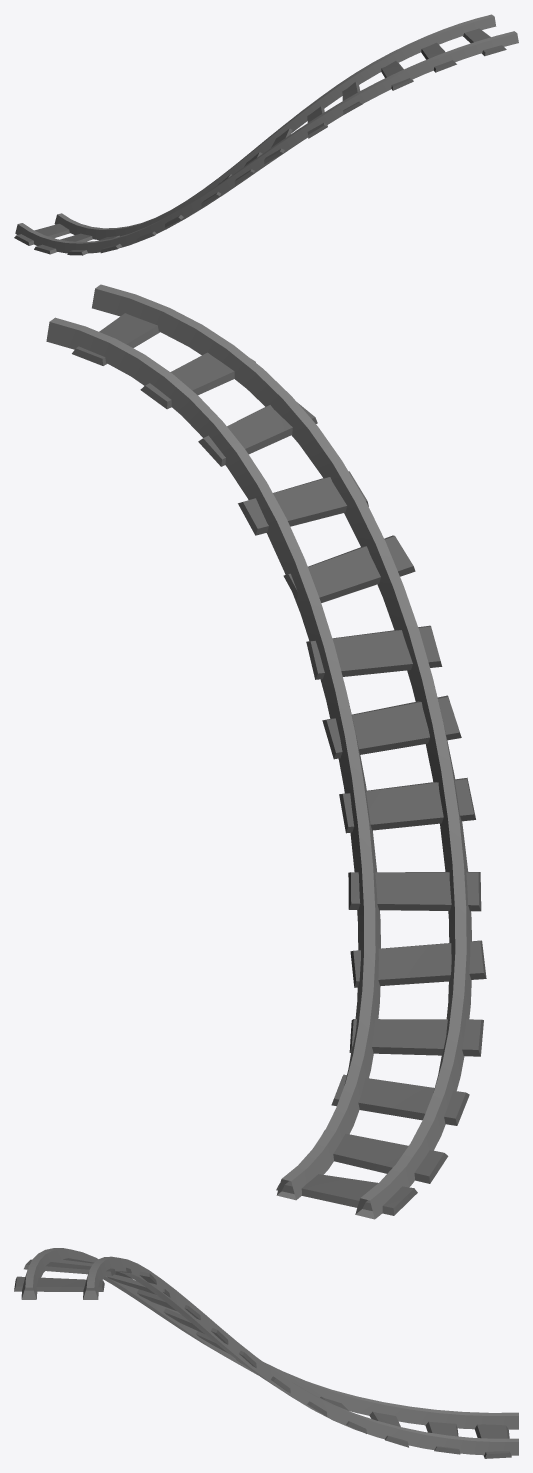
File: Ray_Curve_03.fbx
3 renders of one model, top to bottom at view 1: azimuth 30°, elevation 25°; view 2: azimuth 150°, elevation 25°; view 3: azimuth 270°, elevation 25°, orthographic. The views are drawn at different scales.
Visible parts, largest first — view 1: Ray_Curve_03; view 2: Ray_Curve_03; view 3: Ray_Curve_03.
Boxes of the visible parts, x1=… form: Ray_Curve_03: x1=14, y1=14, x2=518, y2=255; Ray_Curve_03: x1=46, y1=284, x2=486, y2=1219; Ray_Curve_03: x1=14, y1=1248, x2=518, y2=1458.
Size of the model in its own units: 3258 by 2451 by 3239.
